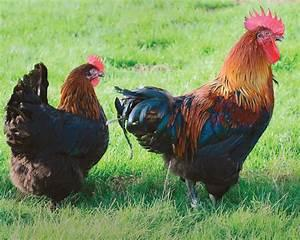hen: (113, 4, 285, 212), (2, 54, 109, 212)
